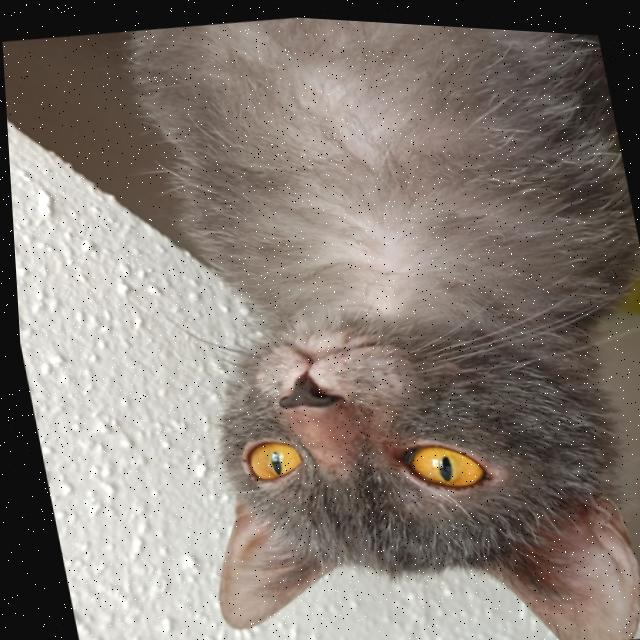Lykoi: (95, 4, 640, 640)
